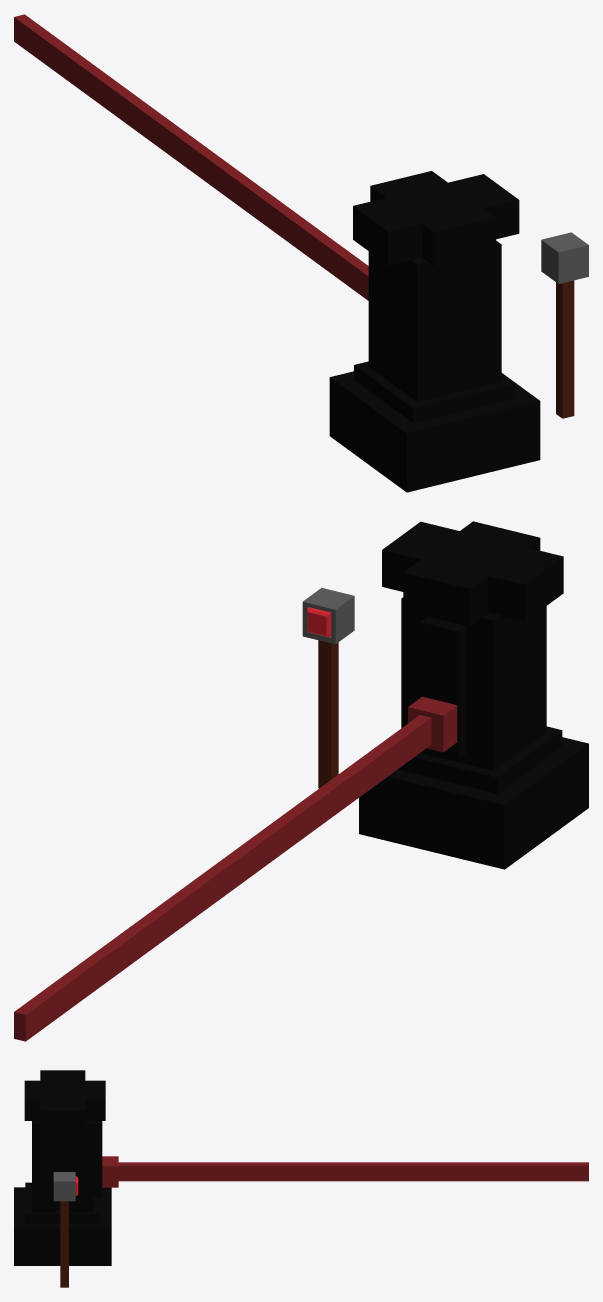
The model's file is car thingy.fbx.
3 renders of one model, top to bottom at view 1: azimuth 30°, elevation 25°; view 2: azimuth 150°, elevation 25°; view 3: azimuth 270°, elevation 25°, orthographic. The views are drawn at different scales.
Parts seen in each view (by area): view 1: Cube, Cube.003, Cube.001; view 2: Cube, Cube.003, Cube.001; view 3: Cube, Cube.003, Cube.001.
Boxes of the visible parts, <box> form: Cube: <box>329,171,540,492</box>; Cube.003: <box>14,14,368,300</box>; Cube.001: <box>541,232,588,418</box>; Cube: <box>359,521,588,869</box>; Cube.003: <box>14,696,457,1041</box>; Cube.001: <box>302,588,354,788</box>; Cube: <box>14,1070,111,1265</box>; Cube.003: <box>102,1156,588,1187</box>; Cube.001: <box>53,1172,75,1287</box>.
Size of the model in its own units: 121 by 133 by 447.
